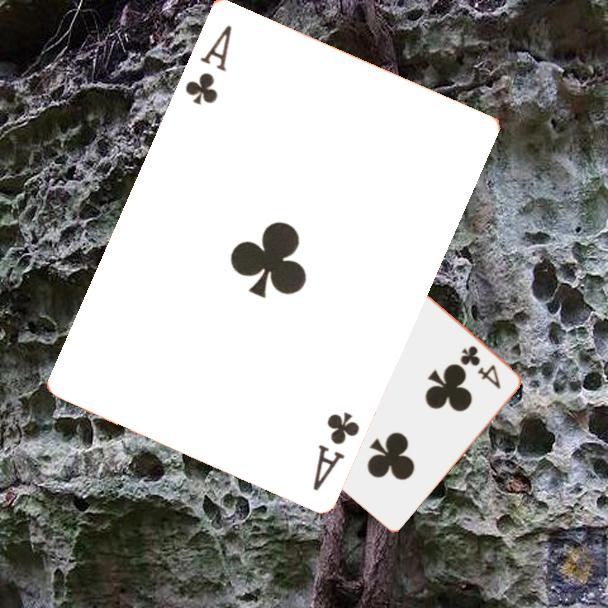c01: (181, 20, 235, 107), (309, 407, 363, 493)
c04: (456, 342, 503, 392)
